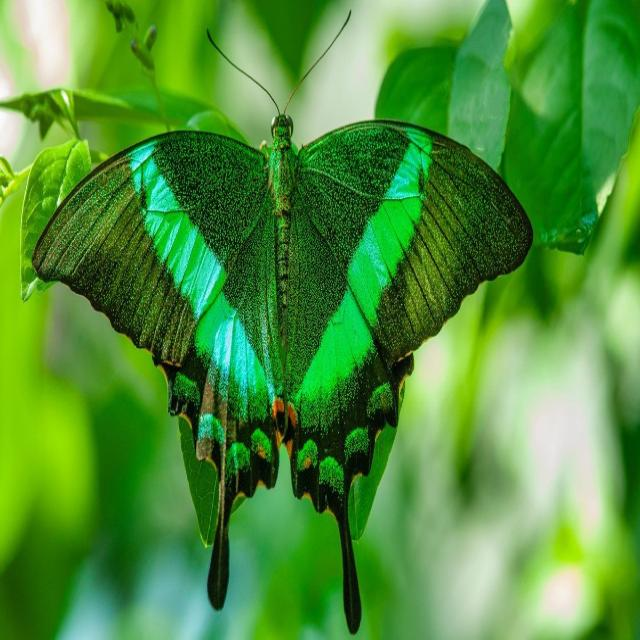butterfly: (68, 100, 478, 543)
